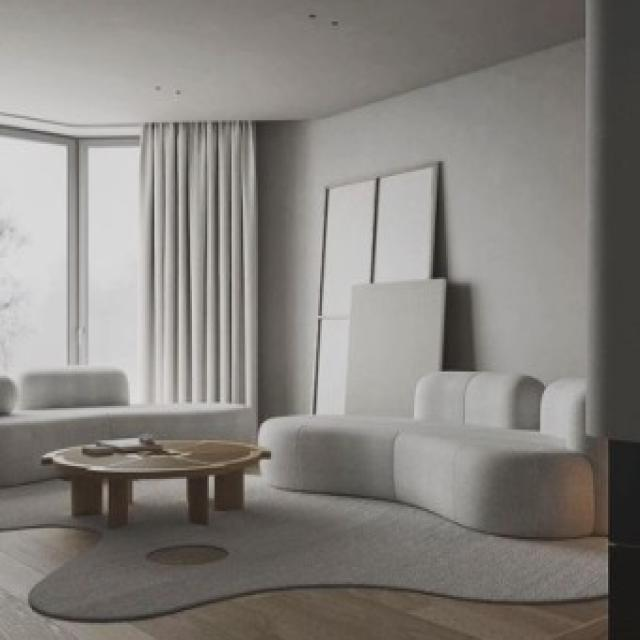Sofa: (276, 370, 603, 539), (2, 358, 263, 448)
Table: (40, 431, 272, 532)
window: (5, 135, 240, 357)
